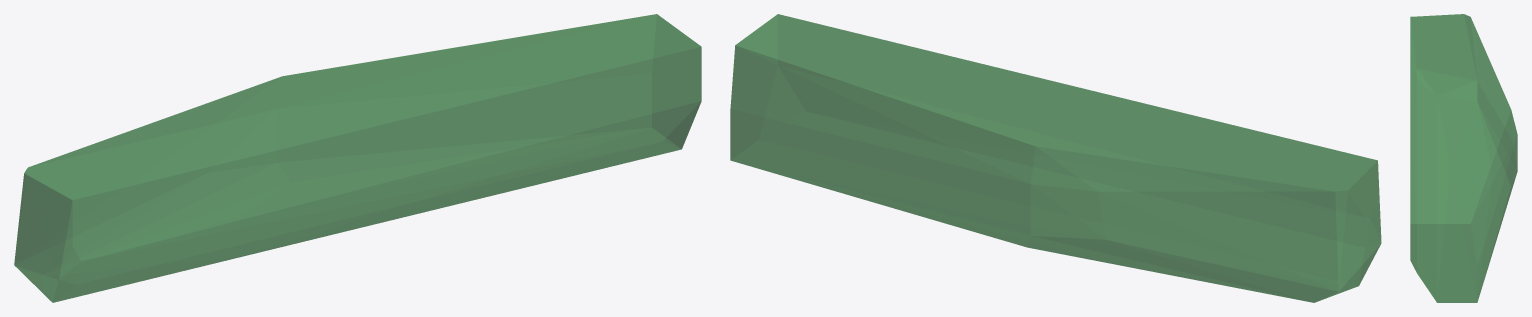
The picture shows the model from 3 angles, left to right: view 1: azimuth 30°, elevation 25°; view 2: azimuth 150°, elevation 25°; view 3: azimuth 270°, elevation 25°; orthographic projection. The views are drawn at different scales.
Parts seen in each view (by area): view 1: Shape_IndexedFaceSet.003_Shape_IndexedFaceSet.9576; view 2: Shape_IndexedFaceSet.003_Shape_IndexedFaceSet.9576; view 3: Shape_IndexedFaceSet.003_Shape_IndexedFaceSet.9576.
Boxes of the visible parts, <box> form: Shape_IndexedFaceSet.003_Shape_IndexedFaceSet.9576: <box>14,14,701,302</box>; Shape_IndexedFaceSet.003_Shape_IndexedFaceSet.9576: <box>730,14,1381,302</box>; Shape_IndexedFaceSet.003_Shape_IndexedFaceSet.9576: <box>1410,14,1517,302</box>.
Size of the model in its own units: 0.2065 by 0.0391 by 0.0447.
